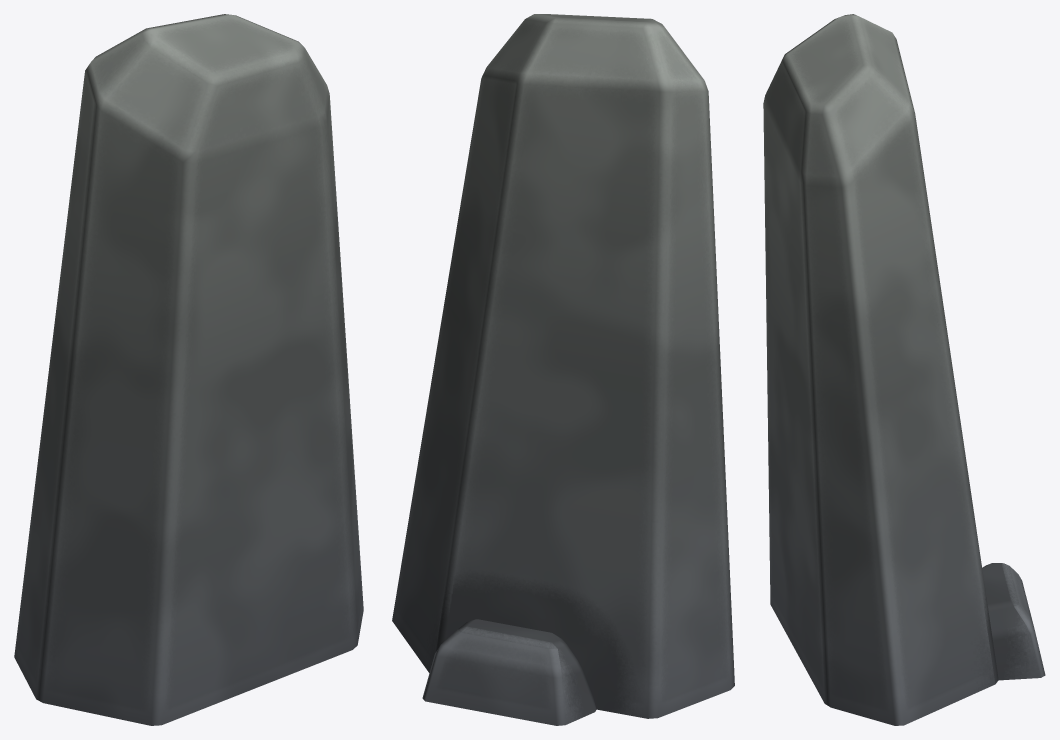
Rendered from standing_stone_1.glb.
3 renders of one model, left to right at view 1: azimuth 30°, elevation 25°; view 2: azimuth 150°, elevation 25°; view 3: azimuth 270°, elevation 25°, orthographic. The views are drawn at different scales.
Visible parts, largest first — view 1: standing_stone_1; view 2: standing_stone_1; view 3: standing_stone_1.
Boxes of the visible parts, x1,y1,x2,y2 form: standing_stone_1: (14,14,363,725); standing_stone_1: (392,14,734,725); standing_stone_1: (763,14,1045,725).
Size of the model in its own units: 1.4 by 2.6 by 1.1.
Materials: 1 (1 with a texture image).
